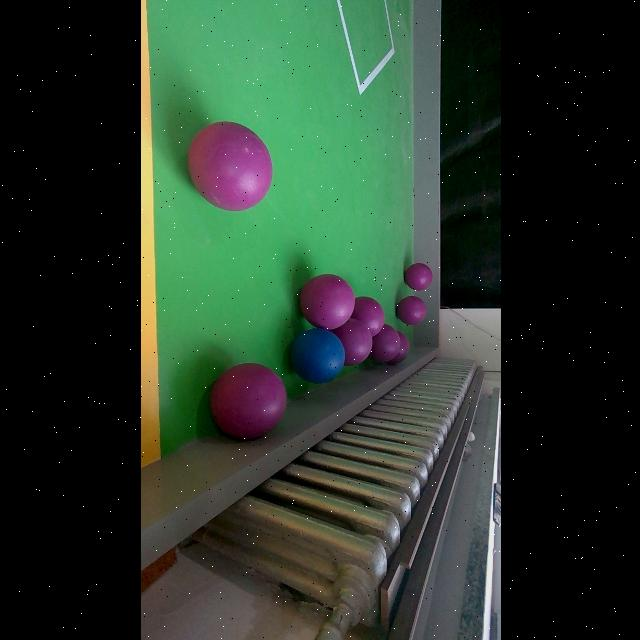B: (289, 328, 345, 384)
P: (186, 121, 272, 211), (208, 362, 286, 440), (298, 274, 354, 330), (338, 329, 374, 365), (353, 295, 381, 331), (394, 296, 426, 326), (402, 263, 432, 291), (378, 331, 407, 359)
